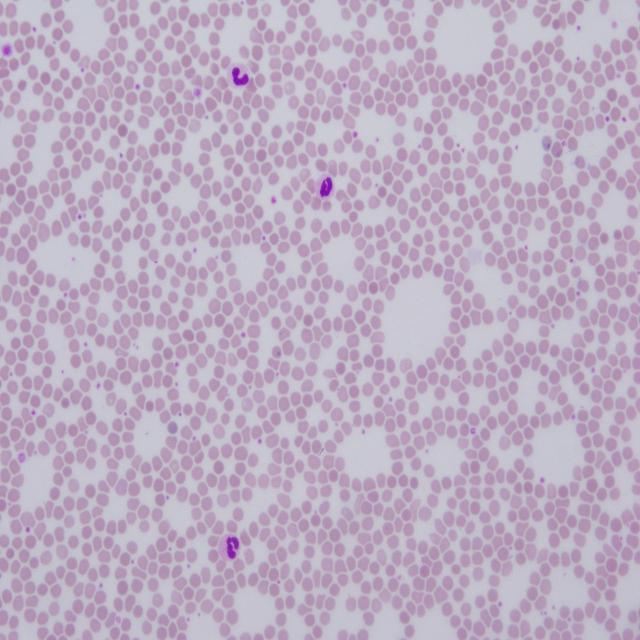cell: (315, 172, 335, 201), (218, 536, 240, 561), (228, 64, 250, 88)
